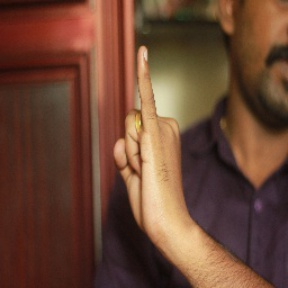I: (112, 45, 189, 230)
